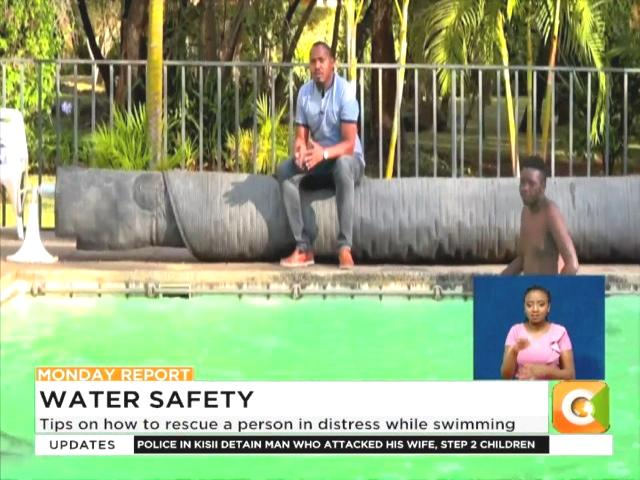out of water: (282, 31, 384, 274)
swimming: (508, 154, 585, 273)
